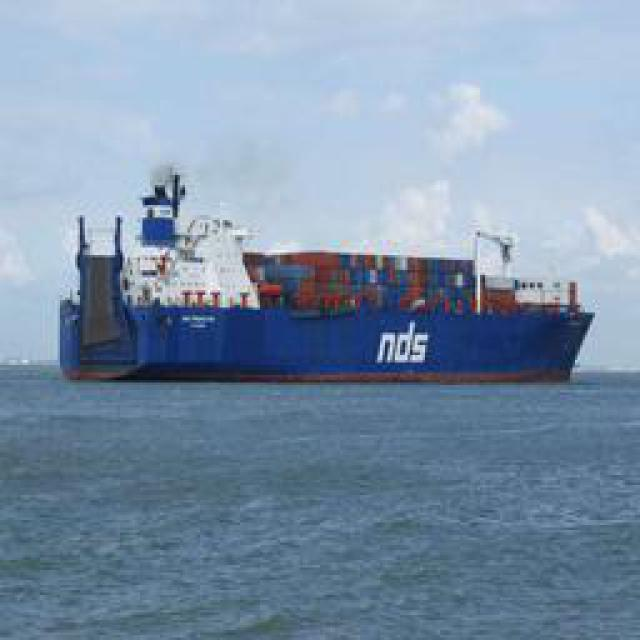Ship: (53, 180, 601, 385)
